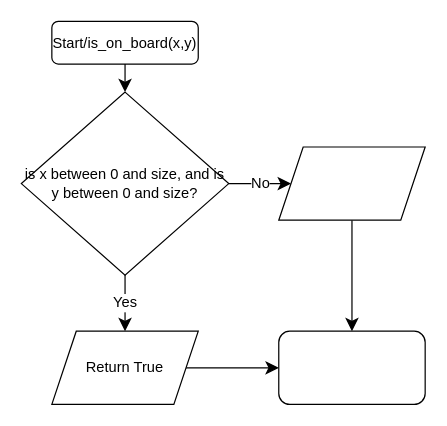
Image size: 447x426. Some labels were removed from this diagram. Each missing label, with the box of its shape:
END: (278, 330, 425, 404)
Return False: (278, 146, 425, 220)
